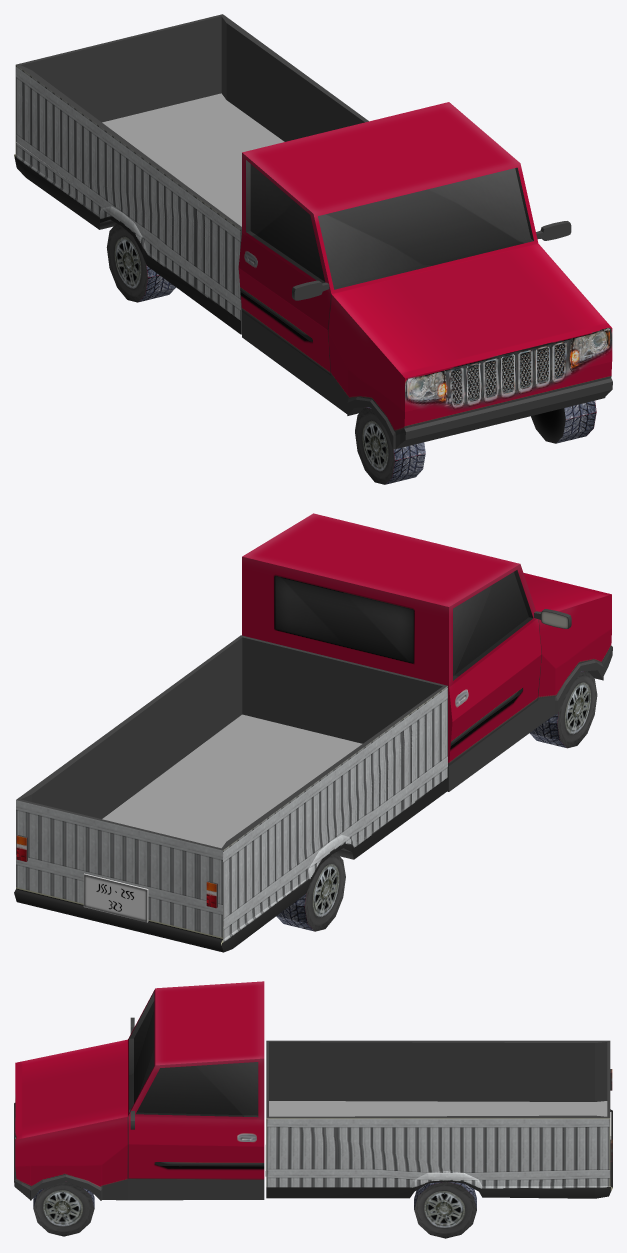
Rendered from small_truck.fbx.
3 renders of one model, top to bottom at view 1: azimuth 30°, elevation 25°; view 2: azimuth 150°, elevation 25°; view 3: azimuth 270°, elevation 25°, orthographic. The views are drawn at different scales.
Visible parts, largest first — view 1: body, frent_Right_tyre, back_right_tyre, frent_Right_tyre1; view 2: body, back_right_tyre, frent_Right_tyre; view 3: body, back_right_tyre1, frent_Right_tyre1.
Boxes of the visible parts, x1,y1,x2,y2 form: body: (14,14,612,449); frent_Right_tyre: (355,407,425,484); back_right_tyre: (106,223,175,302); frent_Right_tyre1: (531,400,596,443); body: (14,513,612,952); back_right_tyre: (276,852,345,931); frent_Right_tyre: (529,671,597,748); body: (14,981,612,1200); back_right_tyre1: (414,1181,476,1238); frent_Right_tyre1: (33,1181,94,1236).
Size of the model in its own units: 9.36 by 7.62 by 22.96.
2 materials, 1 textured.
